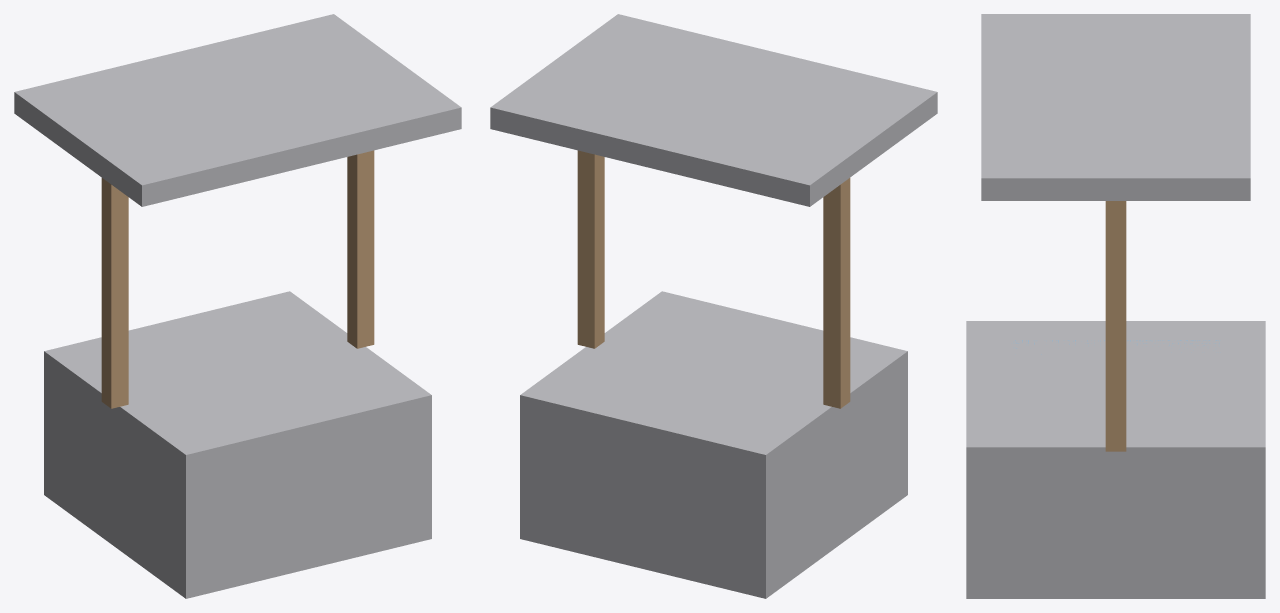
Rendered from Prop_Water_AMF_Well_V3.glb.
The picture shows the model from 3 angles, left to right: view 1: azimuth 30°, elevation 25°; view 2: azimuth 150°, elevation 25°; view 3: azimuth 270°, elevation 25°; orthographic projection. The views are drawn at different scales.
Visible parts, largest first — view 1: Prop_Water_AMF_Well_V3; view 2: Prop_Water_AMF_Well_V3; view 3: Prop_Water_AMF_Well_V3.
Part boxes in pixels (left/top/right/bottom): Prop_Water_AMF_Well_V3: left=14, top=14, right=461, bottom=598; Prop_Water_AMF_Well_V3: left=490, top=14, right=937, bottom=598; Prop_Water_AMF_Well_V3: left=966, top=14, right=1265, bottom=598.
Size of the model in its own units: 1.86 by 2.32 by 1.43.
